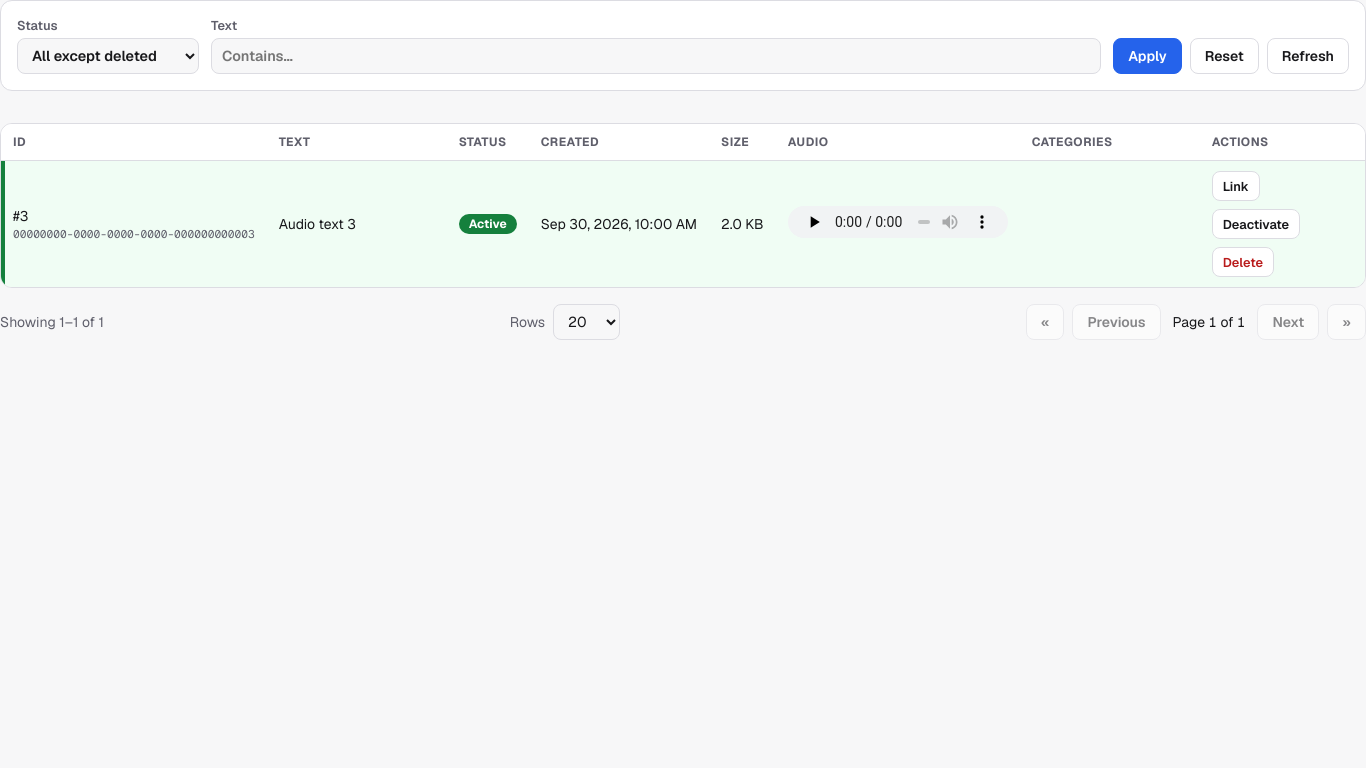
Test: AudioLog › shows a load error in the pop-up when categories cannot be read
What coordinates should you click on to do the following:
click the button named "Link audio #3 to a category"
I would click on:
 (1236, 186)
Its box is 1212,171 -> 1260,201.
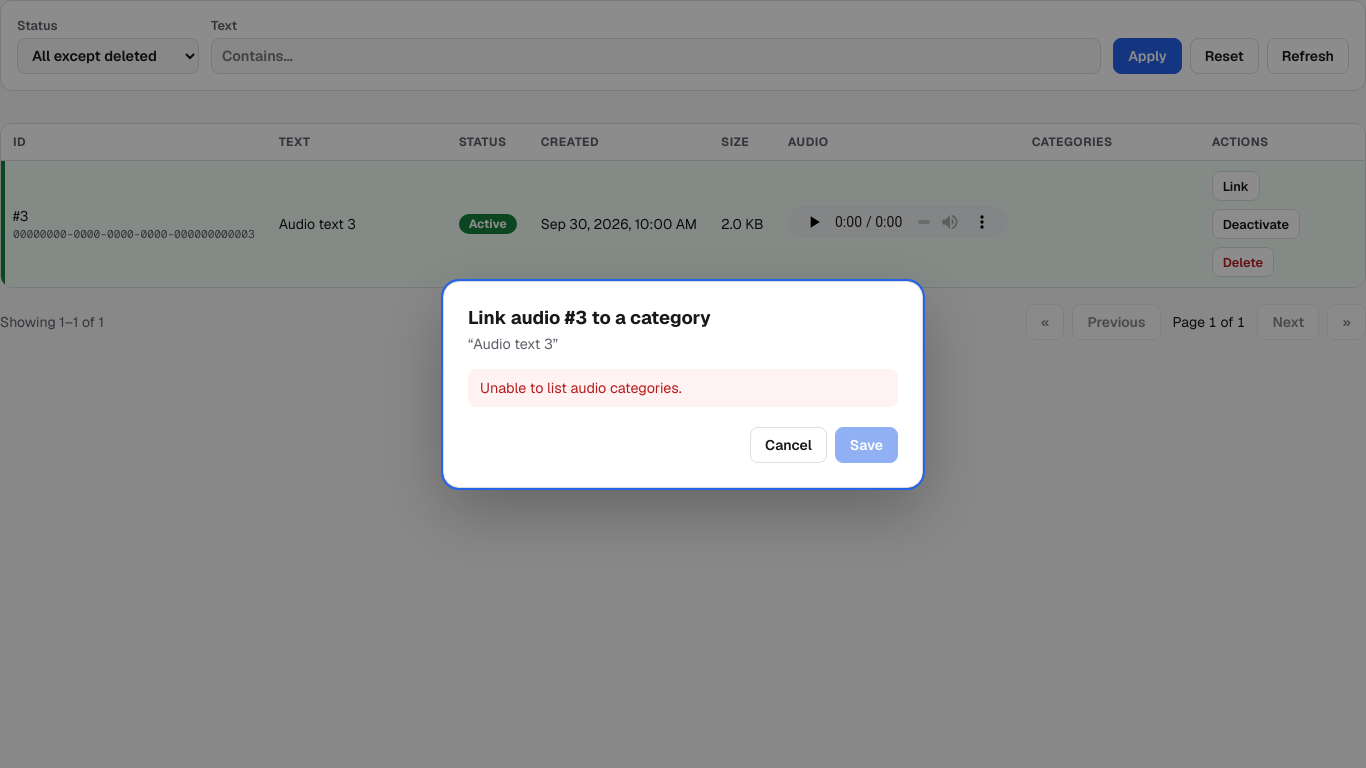
Now the message reads "Unable to list audio categories.", box 480,378 -> 682,396
